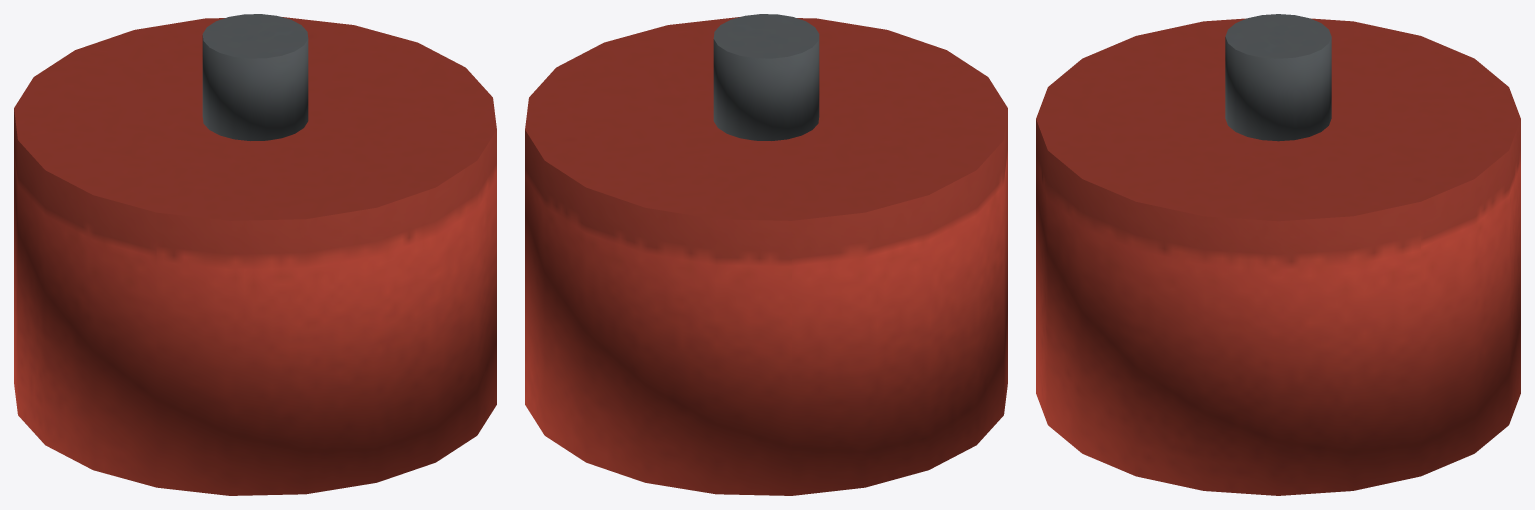
Rendered from 0_mass.obj.
3 renders of one model, left to right at view 1: azimuth 30°, elevation 25°; view 2: azimuth 150°, elevation 25°; view 3: azimuth 270°, elevation 25°, orthographic.
Size of the model in its own units: 0.32 by 0.26 by 0.32.
1 material, 1 textured.
